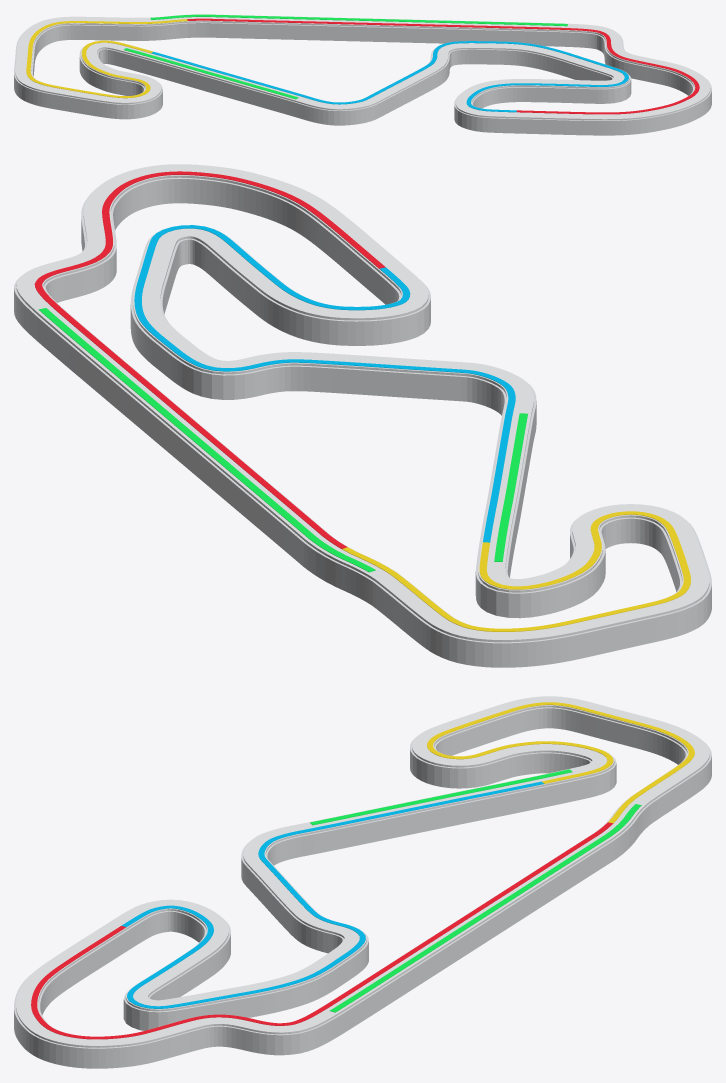
File: BarcelonaCircuit.glb
The picture shows the model from 3 angles, top to bottom: view 1: azimuth 30°, elevation 25°; view 2: azimuth 150°, elevation 25°; view 3: azimuth 270°, elevation 25°; orthographic projection. The views are drawn at different scales.
Parts seen in each view (by area): view 1: BarcelonaOutline, BarcelonaTrack, SectorStrip_2, SectorStrip_1, SectorStrip_3, DrsStrip_2, DrsStrip_1; view 2: BarcelonaOutline, BarcelonaTrack, SectorStrip_2, SectorStrip_1, SectorStrip_3, DrsStrip_2, DrsStrip_1; view 3: BarcelonaOutline, BarcelonaTrack, SectorStrip_2, SectorStrip_1, SectorStrip_3, DrsStrip_2, DrsStrip_1.
Boxes of the visible parts, x1,y1,x2,y2 form: BarcelonaOutline: (14,22,711,135); BarcelonaTrack: (15,14,710,120); SectorStrip_2: (151,41,628,112); SectorStrip_1: (187,18,699,114); SectorStrip_3: (26,19,187,98); DrsStrip_2: (150,14,567,26); DrsStrip_1: (123,48,298,99); BarcelonaOutline: (14,177,711,667); BarcelonaTrack: (16,164,709,642); SectorStrip_2: (134,225,515,542); SectorStrip_1: (34,171,385,548); SectorStrip_3: (342,511,690,631); DrsStrip_2: (38,308,375,572); DrsStrip_1: (494,413,527,561); BarcelonaOutline: (14,707,711,1068); BarcelonaTrack: (16,696,709,1047); SectorStrip_2: (121,781,543,1008); SectorStrip_1: (31,822,613,1039); SectorStrip_3: (427,702,694,823); DrsStrip_2: (330,804,641,1012); DrsStrip_1: (310,769,572,825).
Size of the model in its own units: 16.52 by 0.497 by 13.86.
